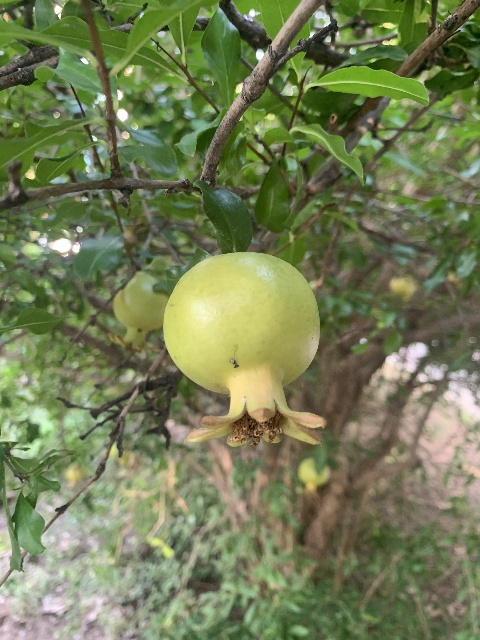mid-growth: (162, 251, 326, 450), (107, 272, 170, 354), (297, 456, 331, 500)
